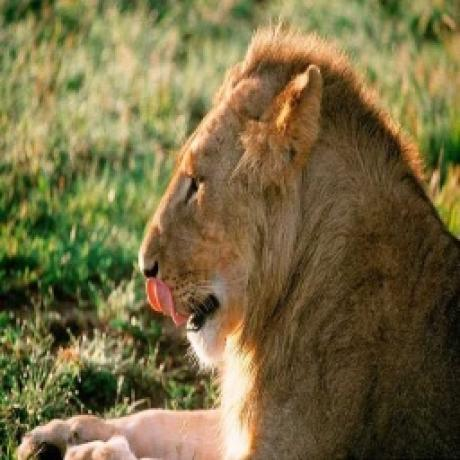Lion: (11, 27, 460, 460)
